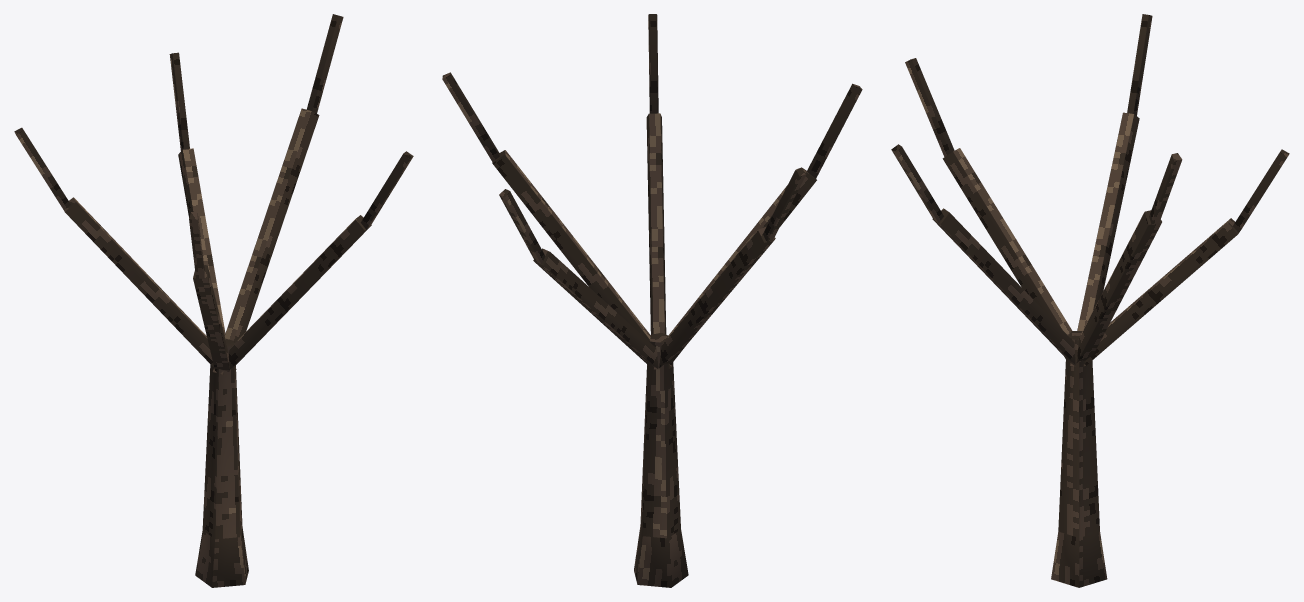
The model's file is mnat.orchard__bare.glb.
The picture shows the model from 3 angles, left to right: view 1: azimuth 30°, elevation 25°; view 2: azimuth 150°, elevation 25°; view 3: azimuth 270°, elevation 25°; orthographic projection. The views are drawn at different scales.
Visible parts, largest first — view 1: kit_trunk; view 2: kit_trunk; view 3: kit_trunk.
Boxes of the visible parts, <box> form: kit_trunk: <box>14,14,413,587</box>; kit_trunk: <box>442,14,862,587</box>; kit_trunk: <box>891,14,1289,587</box>.
Bounding box in the file's own units: 3.14 × 4.28 × 3.09.
Materials: 1 (1 with a texture image).
